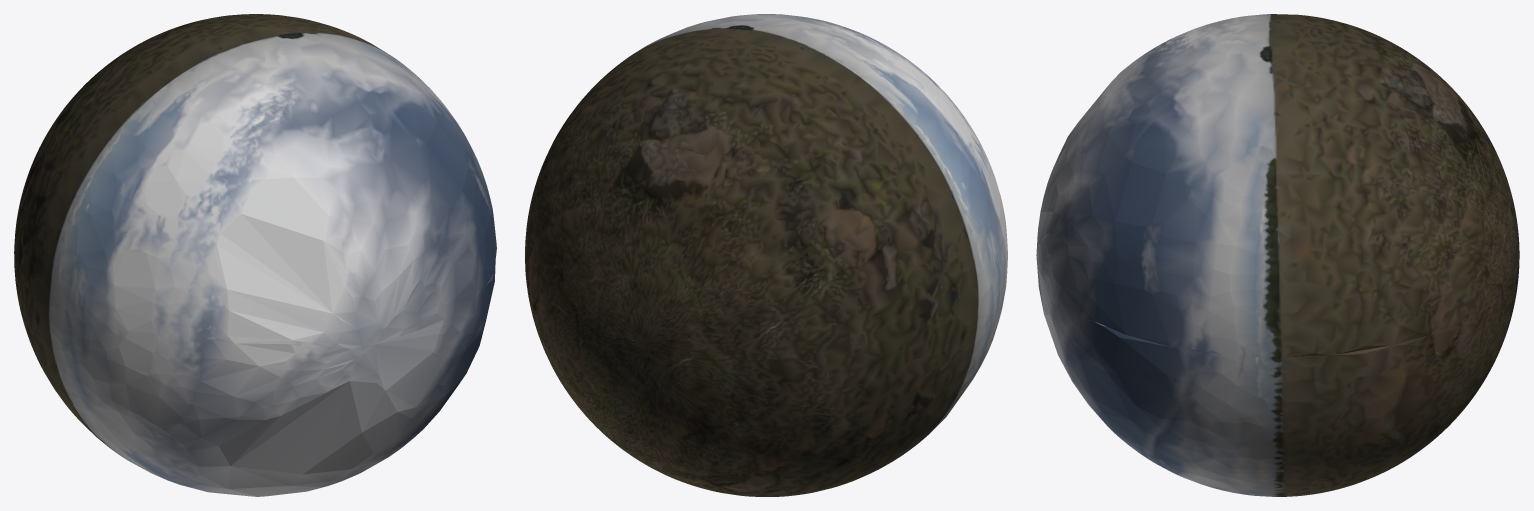
The model's file is Skydome.fbx.
3 renders of one model, left to right at view 1: azimuth 30°, elevation 25°; view 2: azimuth 150°, elevation 25°; view 3: azimuth 270°, elevation 25°, orthographic.
Visible parts, largest first — view 1: image3.tga.sphere; view 2: image3.tga.sphere; view 3: image3.tga.sphere.
Part boxes in pixels (box(x1,y1,x2,y2)): image3.tga.sphere: box(14, 14, 496, 496); image3.tga.sphere: box(525, 14, 1007, 496); image3.tga.sphere: box(1036, 14, 1519, 496).
Size of the model in its own units: 2000 by 1999 by 2000.
